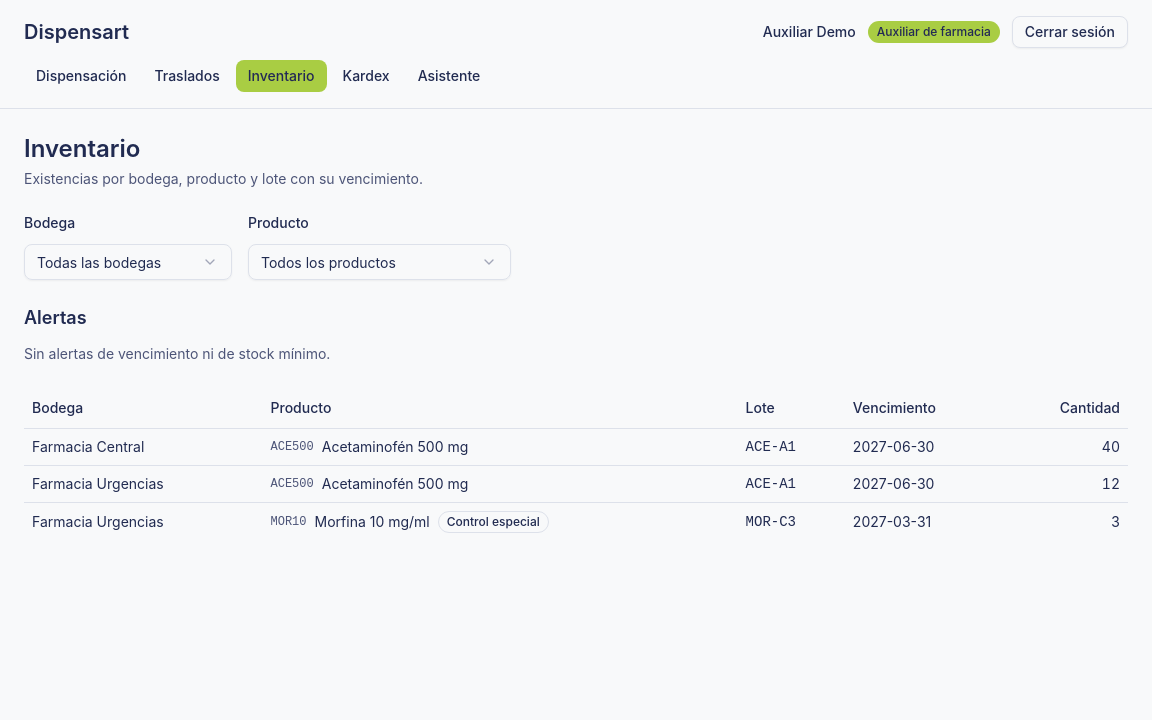
pantalla Inventario › Fallo de la consulta: mensaje de red con "Reintentar", que repite con los mismos filtros
Expected: the table is shown, [24,388,1128,541]
Select "Farmacia Urgencias" in the dropdown labelled "Bodega": (128, 262) [24,244,232,280]
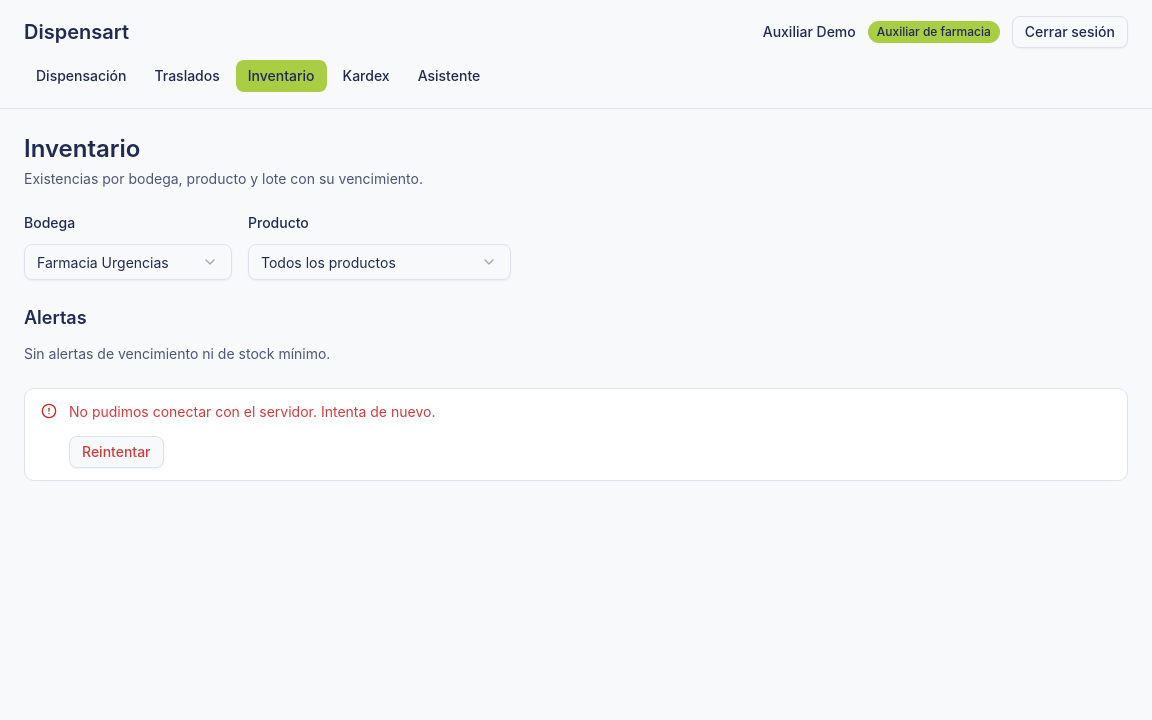
Now the message shows "No pudimos conectar con el servidor. Intenta de nuevo.", box [69,403,435,420]
Click the button "Reintentar": (116, 452) [69,436,164,468]
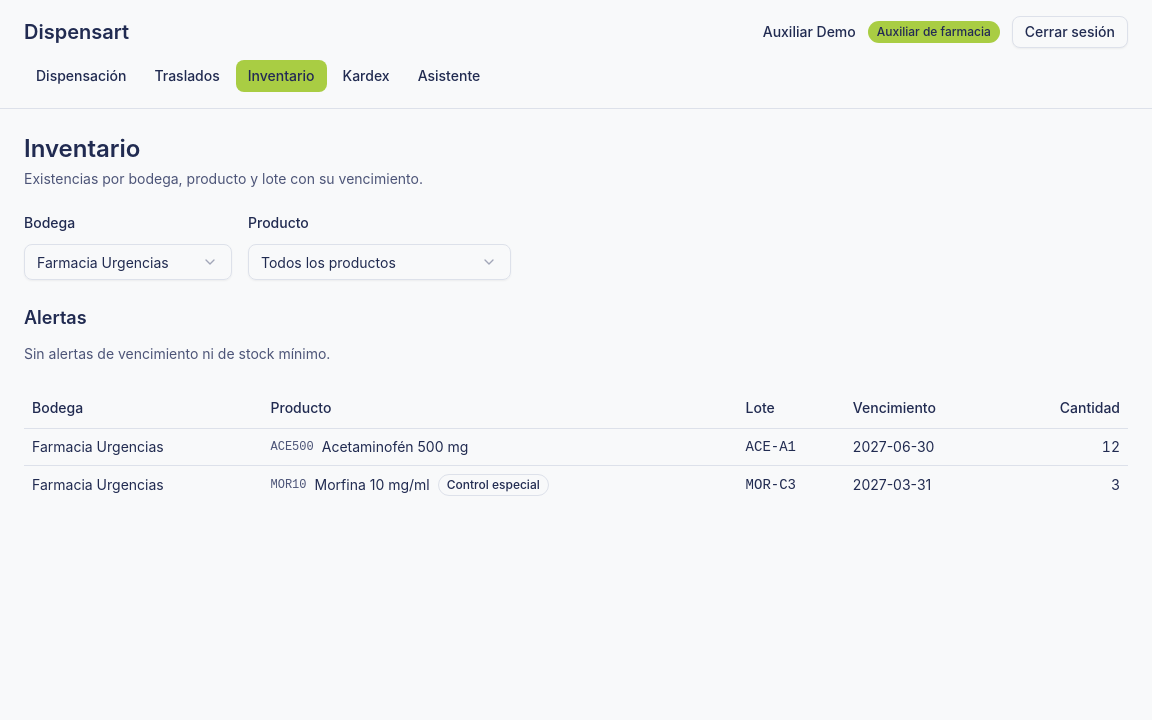
Now the table is shown, box [24,388,1128,504]
